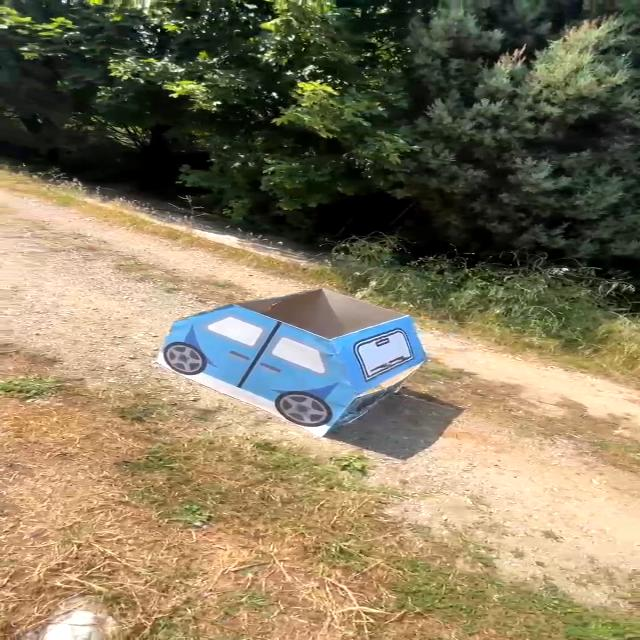blue_car: (135, 275, 445, 447)
